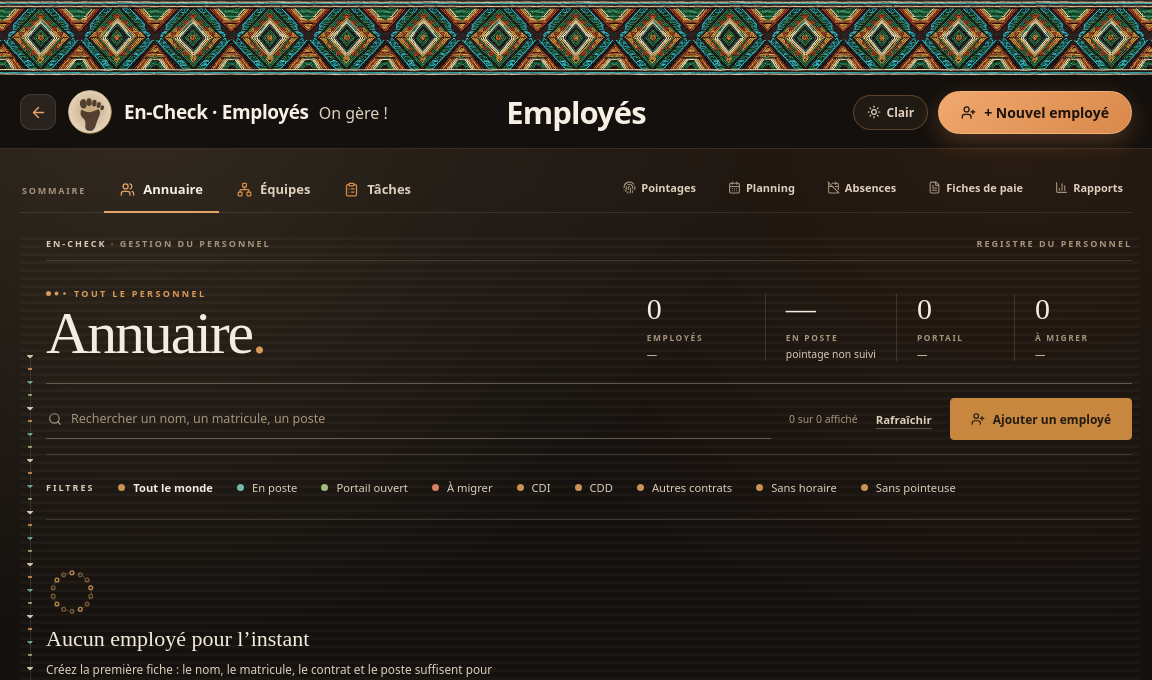
Test: la page Employés › passe aux équipes et aux tâches sans quitter la page
Click the button with class "emp-onglet" showing "Équipes". click: (274, 191)
box: [221,169,326,213]
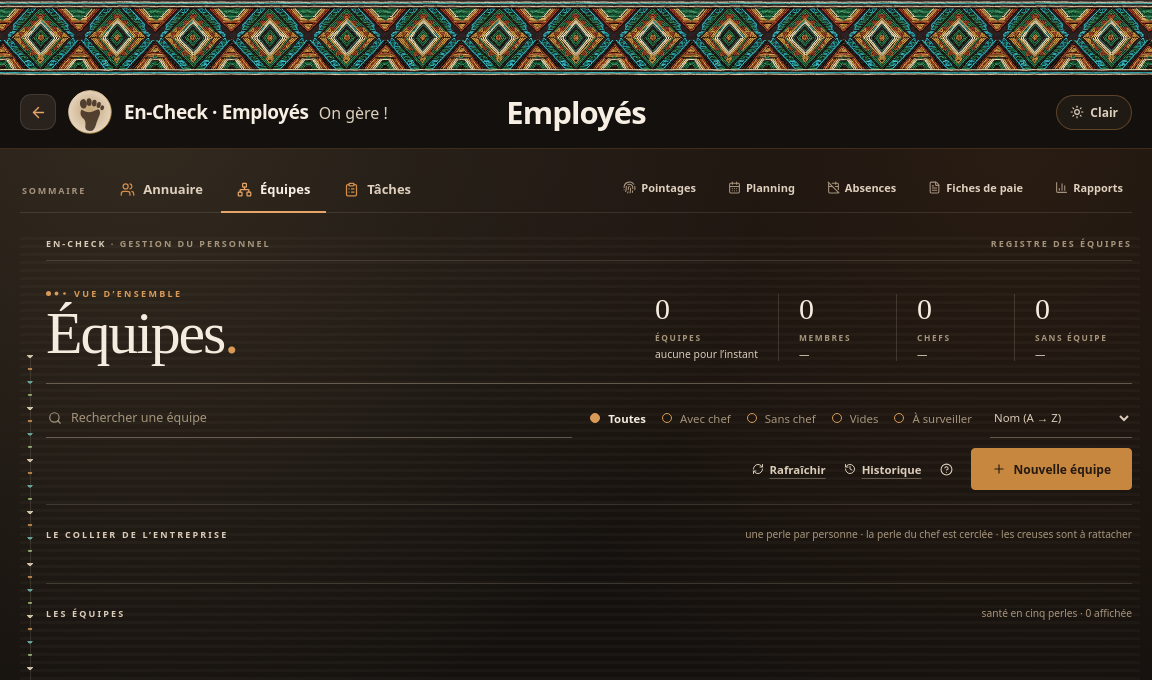
Check: the text "Nouvelle équipe" is shown, box [970,448,1132,490]
Click the button with class "emp-onglet" showing "Tâches". click: (378, 191)
box: [328,169,427,213]
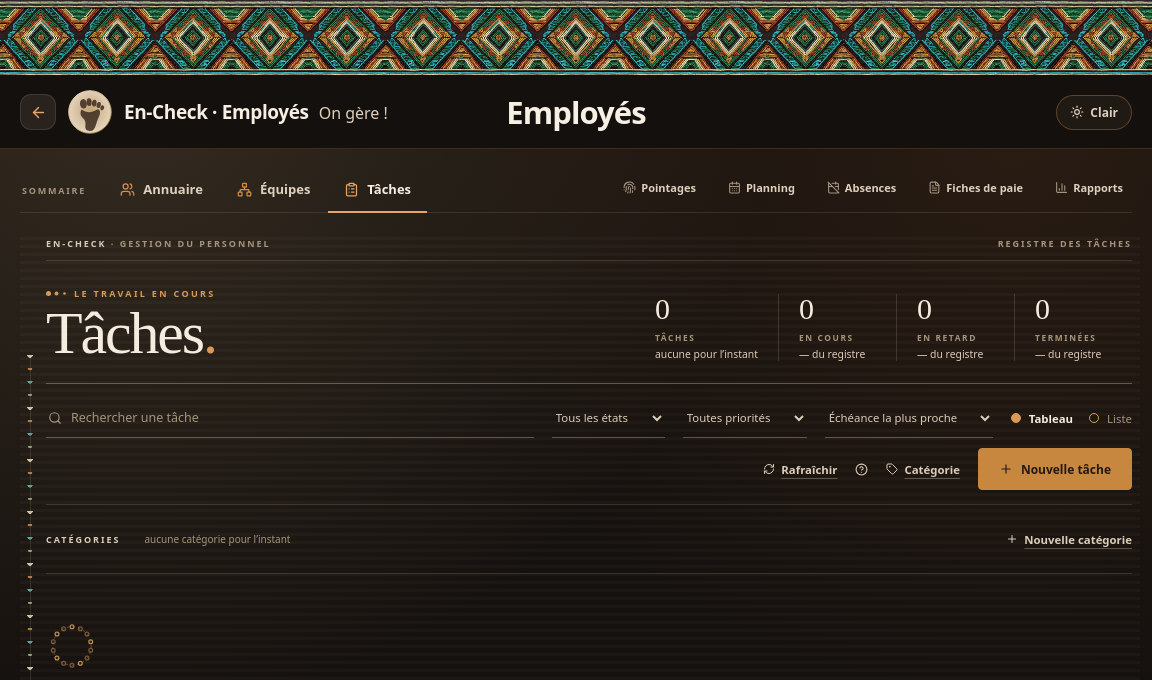
Check: the text "Nouvelle tâche" is shown, box [978,448,1132,490]
